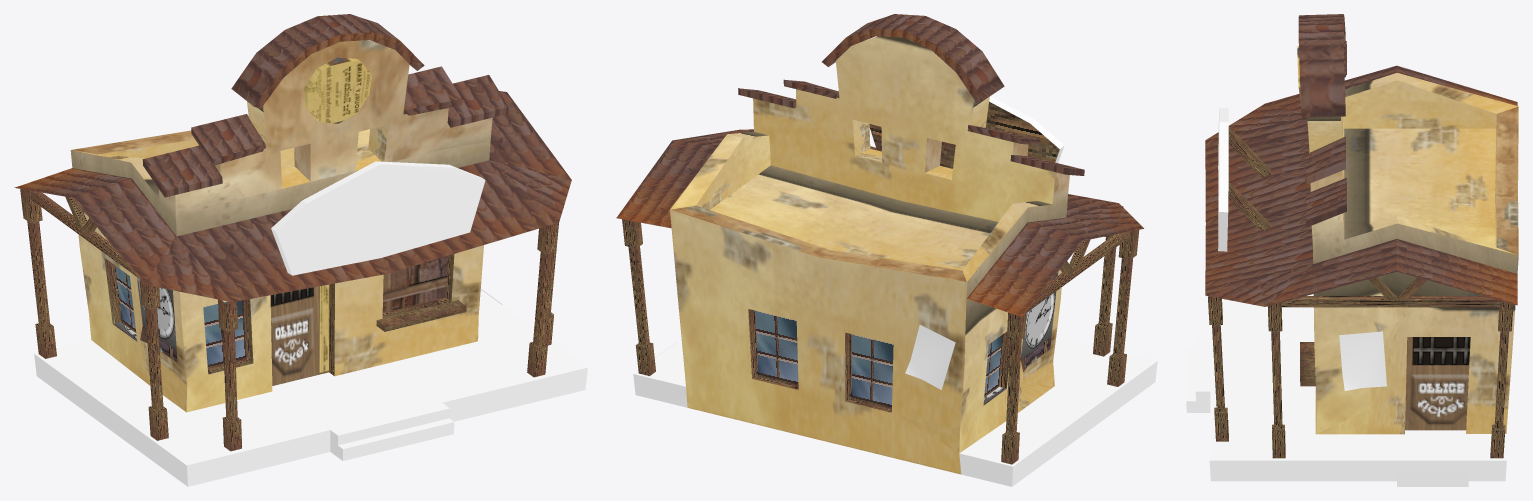
3 views of the same model, side by side, from view 1: azimuth 30°, elevation 25°; view 2: azimuth 150°, elevation 25°; view 3: azimuth 270°, elevation 25° (orthographic). The views are drawn at different scales.
Visible parts, largest first — view 1: walls, roof, deck, sign, door_front, post05, post_wood_sills, clock, post, windows, post06, poster01; view 2: walls, roof, deck, windows, post05, post, post_sign back, poster02, poster01, post06, post_wood_sills, sign; view 3: walls, roof, deck, door_side, post, post11, poster, sign, post_sign back, post_wood_sills.
Boxes of the visible parts, x1,y1,x2,y2 form: walls: (70,40,492,412); roof: (14,14,571,302); deck: (34,289,587,486); sign: (271,161,485,275); door_front: (113,256,448,385); post05: (20,189,241,451); post_wood_sills: (104,254,466,375); clock: (303,57,372,123); post: (527,173,566,377); windows: (114,265,247,368); post06: (29,190,138,278); poster01: (137,277,177,362); walls: (670,36,1069,474); roof: (616,14,1143,316); deck: (633,336,1157,486); windows: (752,310,1003,409); post05: (1001,206,1139,464); post: (622,131,741,376); post_sign back: (869,101,1059,168); poster02: (905,325,955,389); poster01: (1020,272,1058,372); post06: (1026,231,1130,312); post_wood_sills: (748,309,1010,412); sign: (989,96,1064,162); walls: (1307,73,1518,434); roof: (1205,14,1517,306); deck: (1186,294,1506,486); door_side: (1405,337,1470,430); post: (1208,296,1513,458); post11: (1281,277,1499,307); poster: (1339,331,1386,390); sign: (1218,107,1228,251); post_sign back: (1228,127,1270,231); post_wood_sills: (1300,338,1470,429).
Size of the model in its own units: 608 by 499 by 415.
17 materials, 13 textured.
